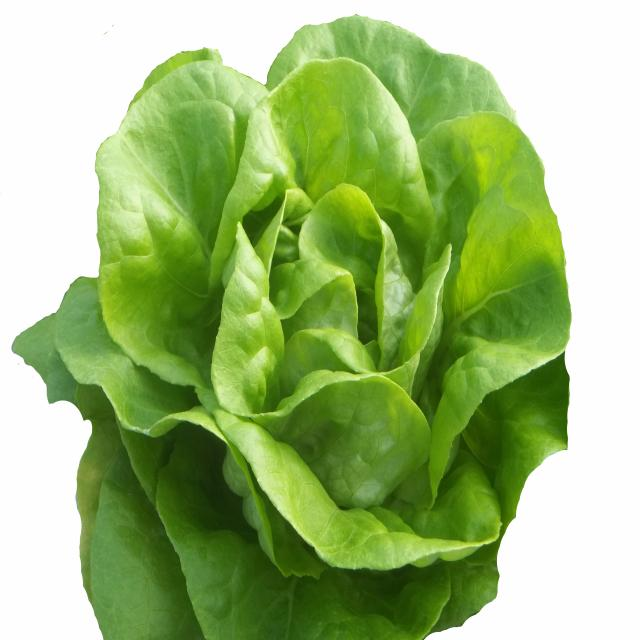lettuce: (57, 14, 573, 640)
